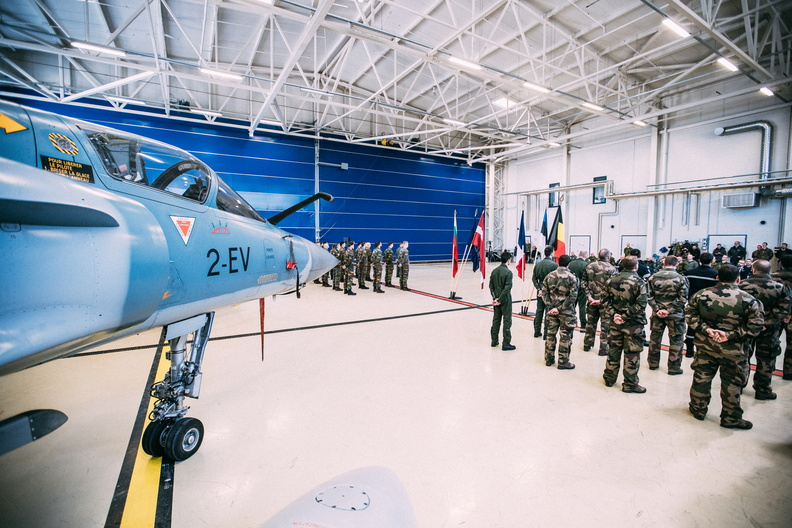Mirage2000: (1, 99, 341, 462)
